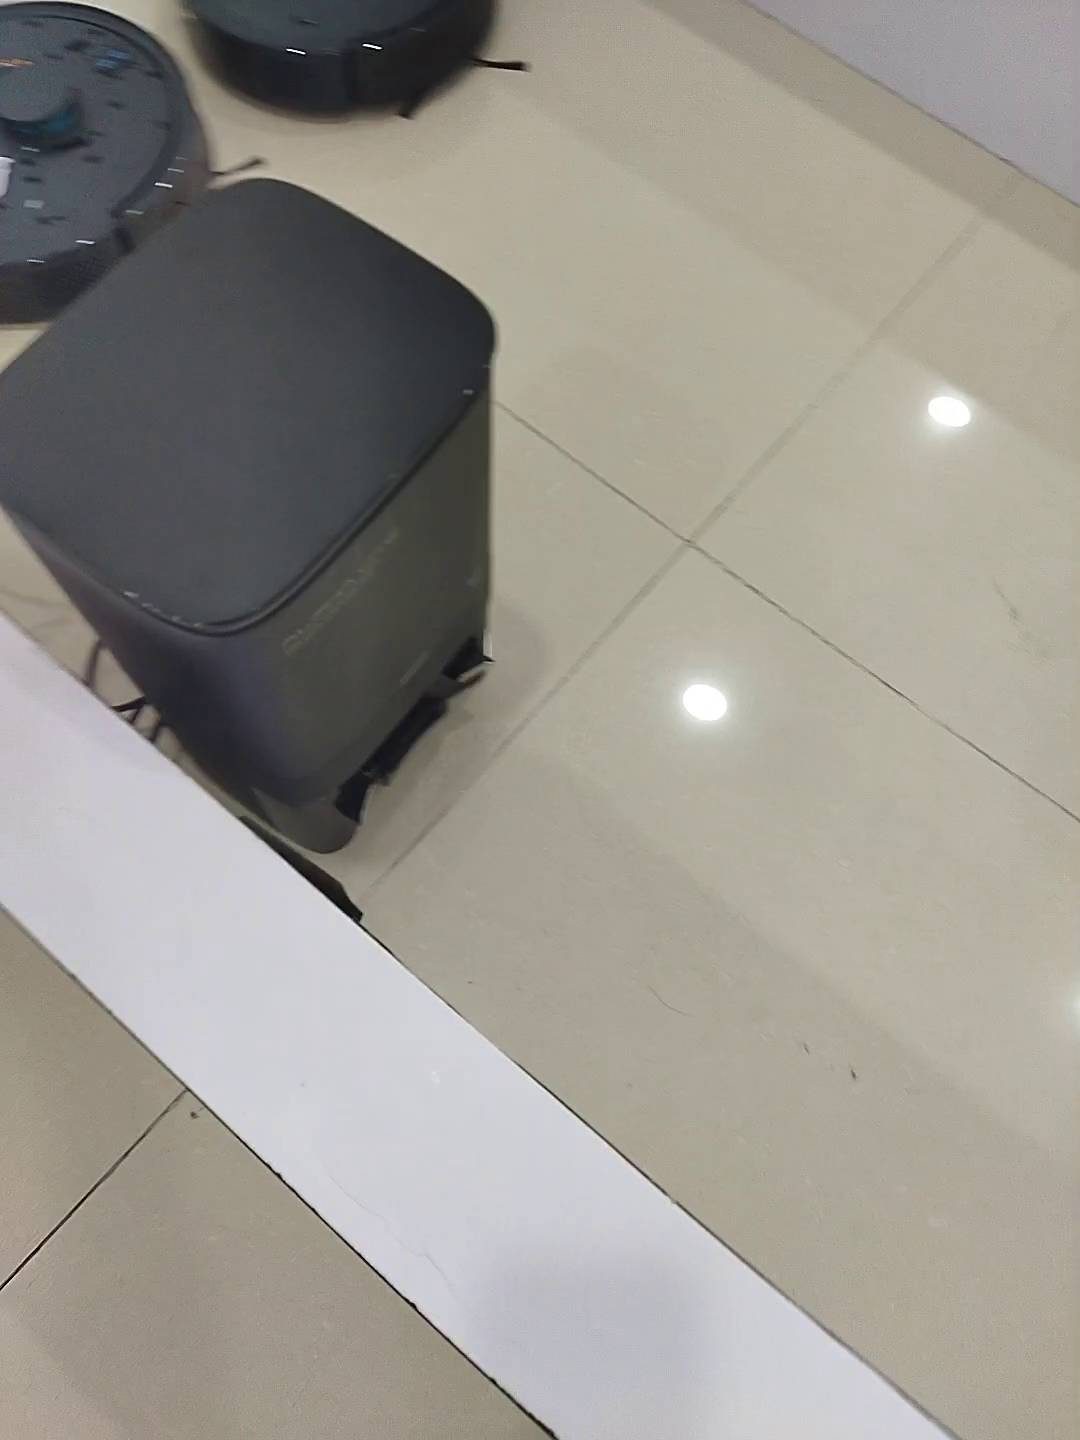dust collecting barrel: (1, 176, 496, 842)
